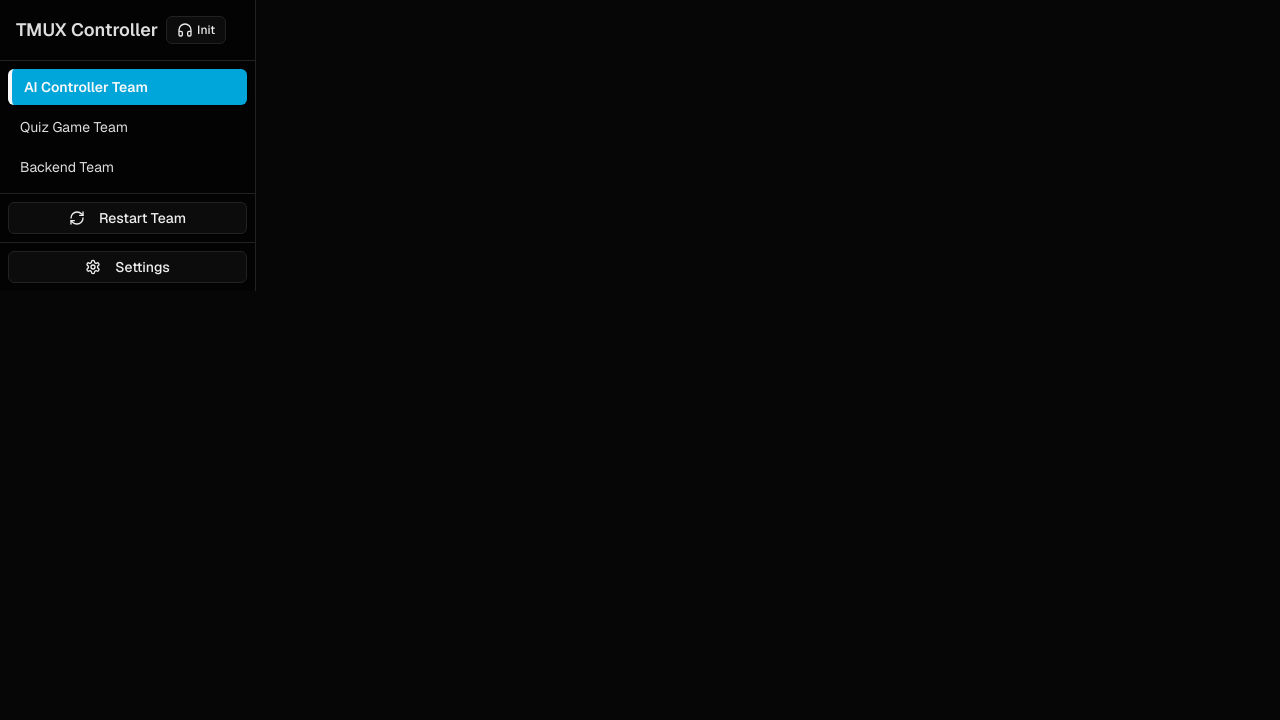
Test case: TeamSidebar › Restart Team Button › should open confirmation dialog when Restart Team clicked
This screenshot has width=1280, height=720.
Click the button "Restart Team" at (128, 218), box [8,202,247,234]
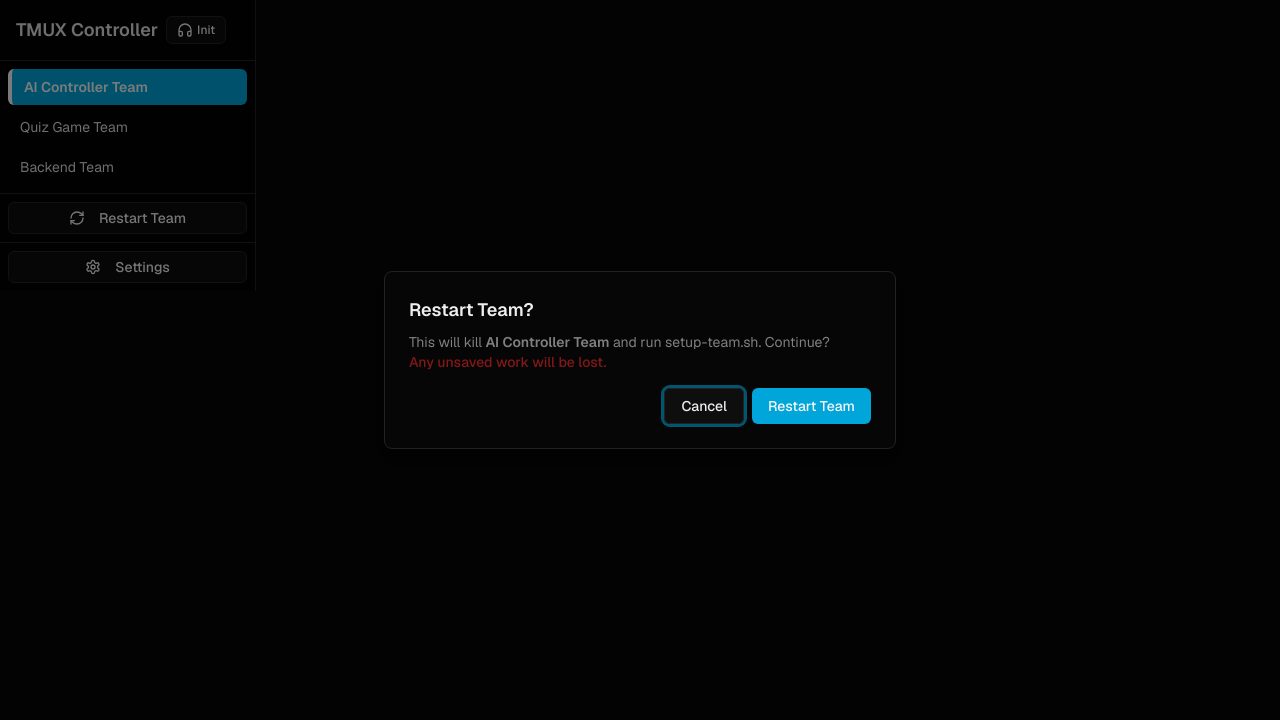
Now the heading "Restart Team?" is shown, box [409,298,534,321]
Now the text "Any unsaved work will be lost." is shown, box [409,353,606,371]
